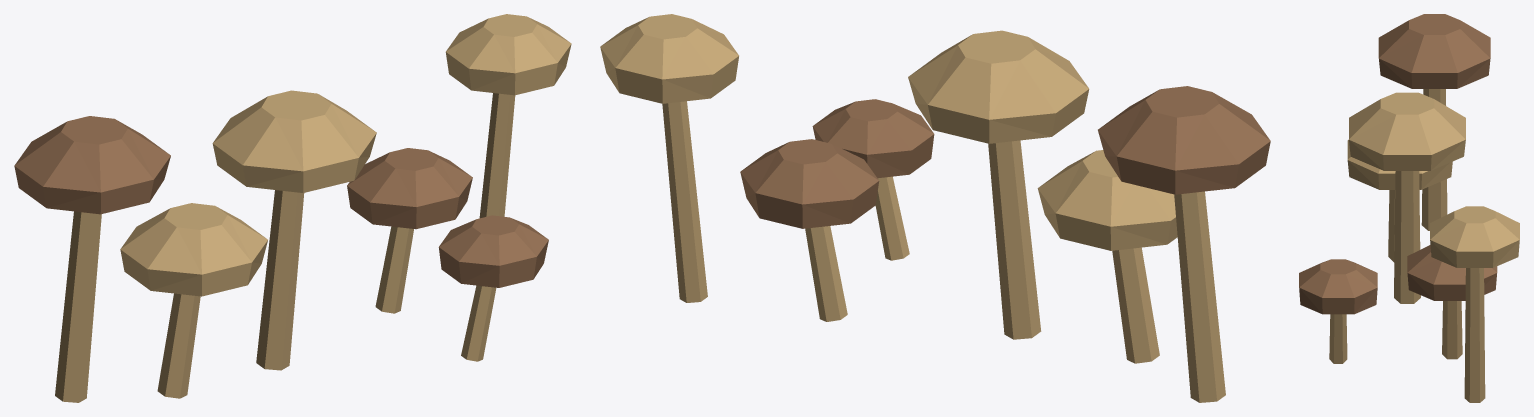
File: NAT_V3_Fungi_Cluster.glb
3 renders of one model, left to right at view 1: azimuth 30°, elevation 25°; view 2: azimuth 150°, elevation 25°; view 3: azimuth 270°, elevation 25°, orthographic. The views are drawn at different scales.
Visible parts, largest first — view 1: NAT_V3_Fungi_Cluster; view 2: NAT_V3_Fungi_Cluster; view 3: NAT_V3_Fungi_Cluster.
Part boxes in pixels (x1,y1,x2,y2): NAT_V3_Fungi_Cluster: (14,14,571,402); NAT_V3_Fungi_Cluster: (600,14,1270,402); NAT_V3_Fungi_Cluster: (1299,14,1519,402).
Bounding box in the file's own units: 0.9675 × 0.4371 × 0.4133.
